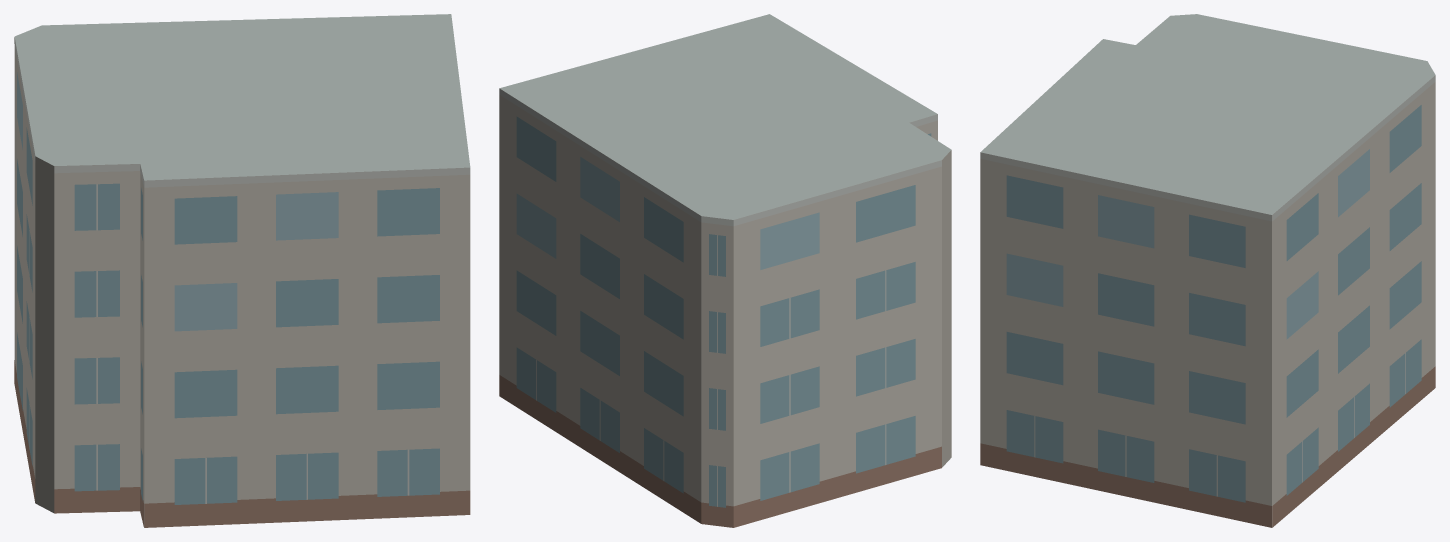
The model's file is survey-upis-32671560.glb.
3 views of the same model, side by side, from view 1: azimuth 30°, elevation 25°; view 2: azimuth 150°, elevation 25°; view 3: azimuth 270°, elevation 25° (orthographic). The views are drawn at different scales.
Visible parts, largest first — view 1: survey-upis-32671560.tmp; view 2: survey-upis-32671560.tmp; view 3: survey-upis-32671560.tmp.
Part boxes in pixels (box(x1,y1,x2,y2)): survey-upis-32671560.tmp: box(14, 14, 470, 527); survey-upis-32671560.tmp: box(499, 14, 951, 527); survey-upis-32671560.tmp: box(980, 14, 1435, 527).
Size of the model in its own units: 16.42 by 11.9 by 15.71.
